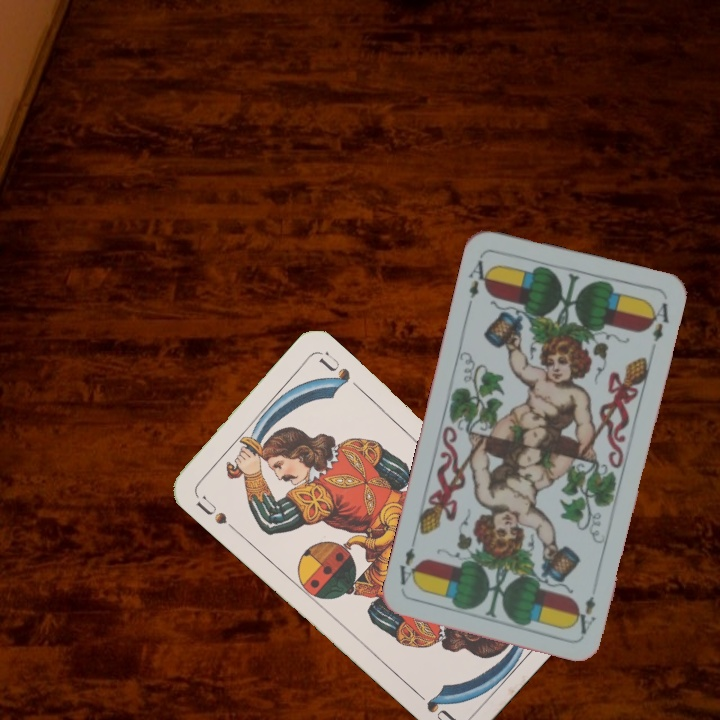EA: (463, 252, 494, 311), (572, 592, 598, 637)
SU: (191, 491, 239, 534)
